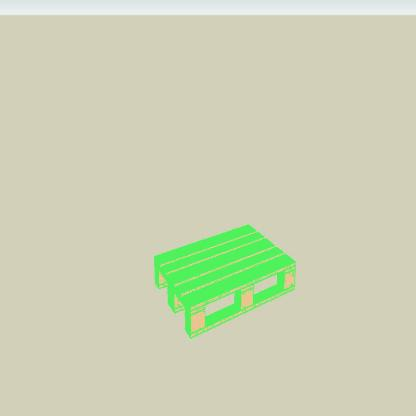BoxFace: (150, 217, 301, 346)
